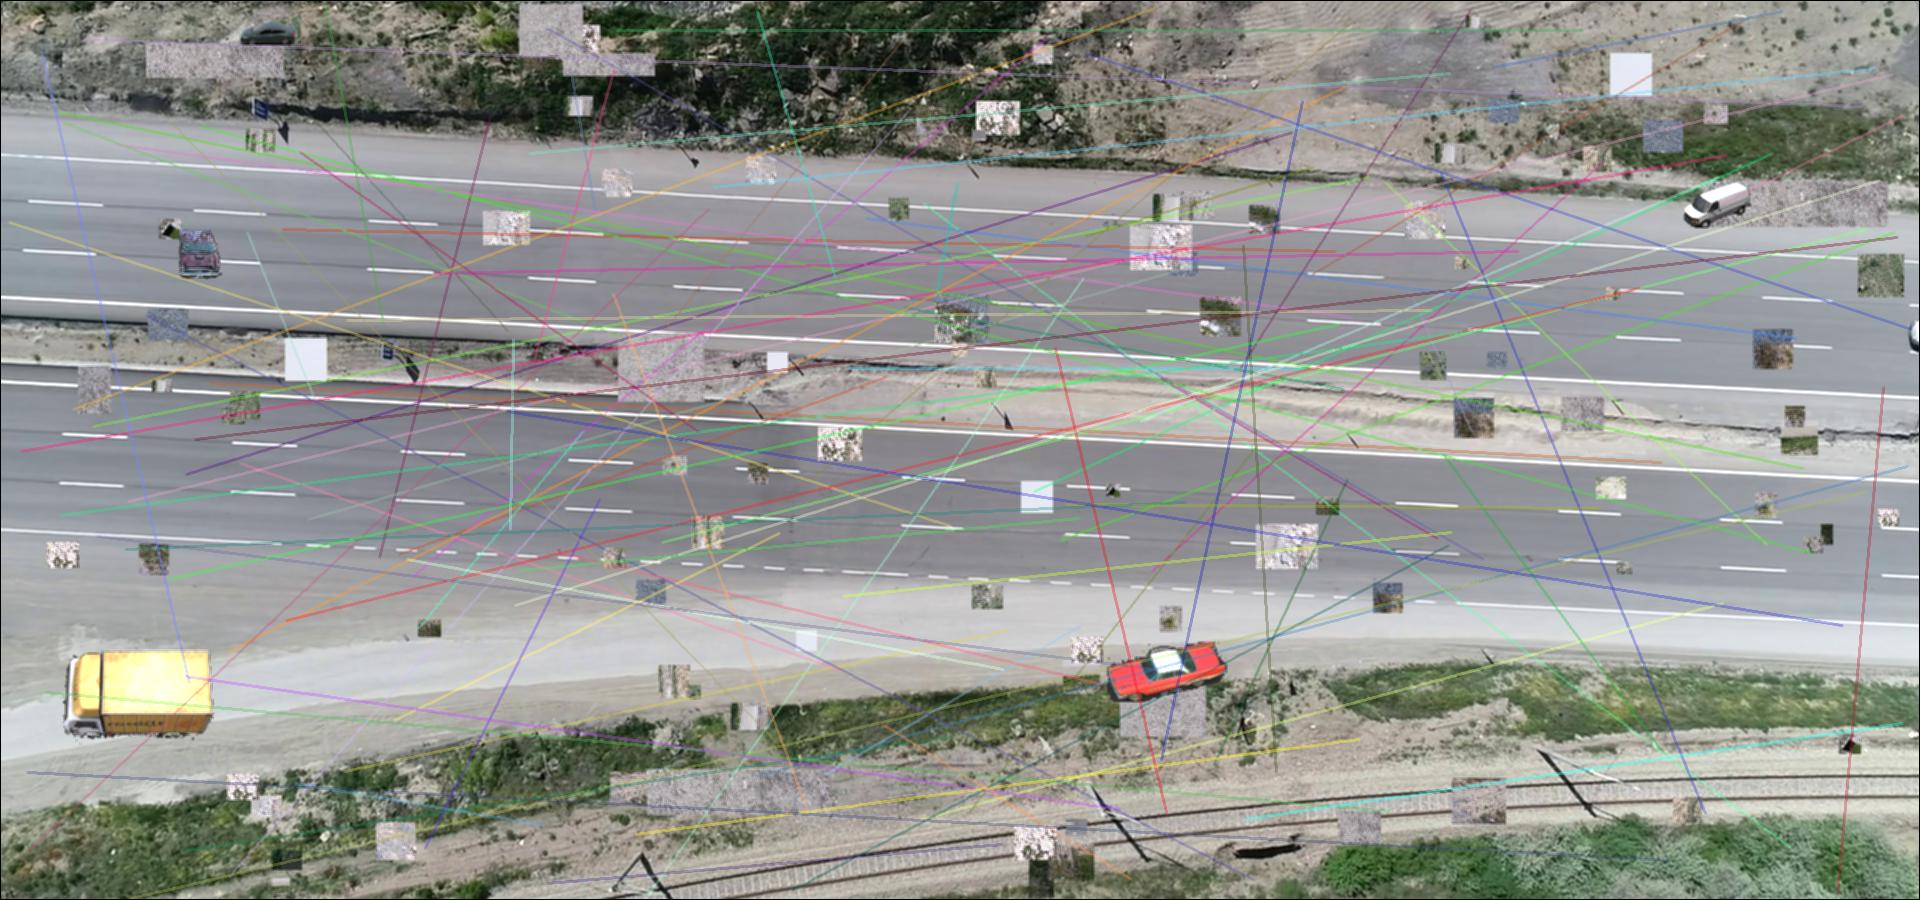arac: (62, 648, 214, 744), (1107, 642, 1227, 702), (1684, 182, 1751, 228), (175, 227, 222, 280), (240, 21, 298, 45)
